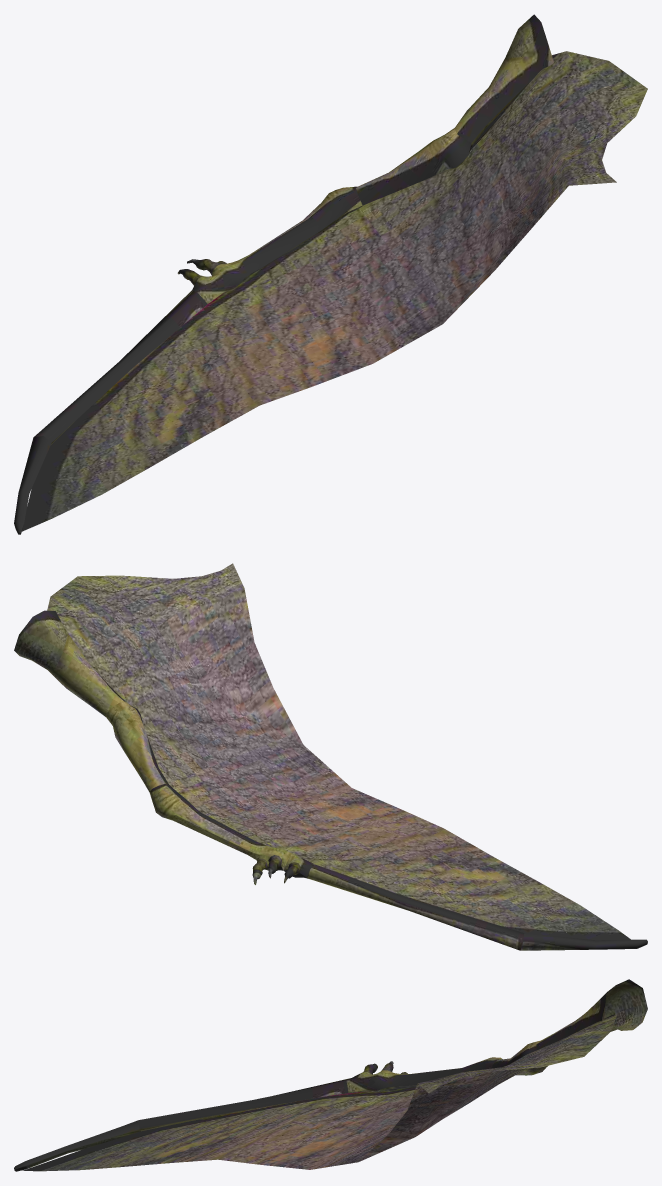
Rendered from D2_alaI.obj.
3 renders of one model, top to bottom at view 1: azimuth 30°, elevation 25°; view 2: azimuth 150°, elevation 25°; view 3: azimuth 330°, elevation 25°, orthographic. The views are drawn at different scales.
Parts seen in each view (by area): view 1: D2.003; view 2: D2.003; view 3: D2.003.
Part boxes in pixels (<box>): D2.003: <box>14,14,647,534</box>; D2.003: <box>14,563,647,950</box>; D2.003: <box>14,979,647,1171</box>.
Size of the model in its own units: 26.26 by 11.73 by 13.73.
Materials: 1 (1 with a texture image).
